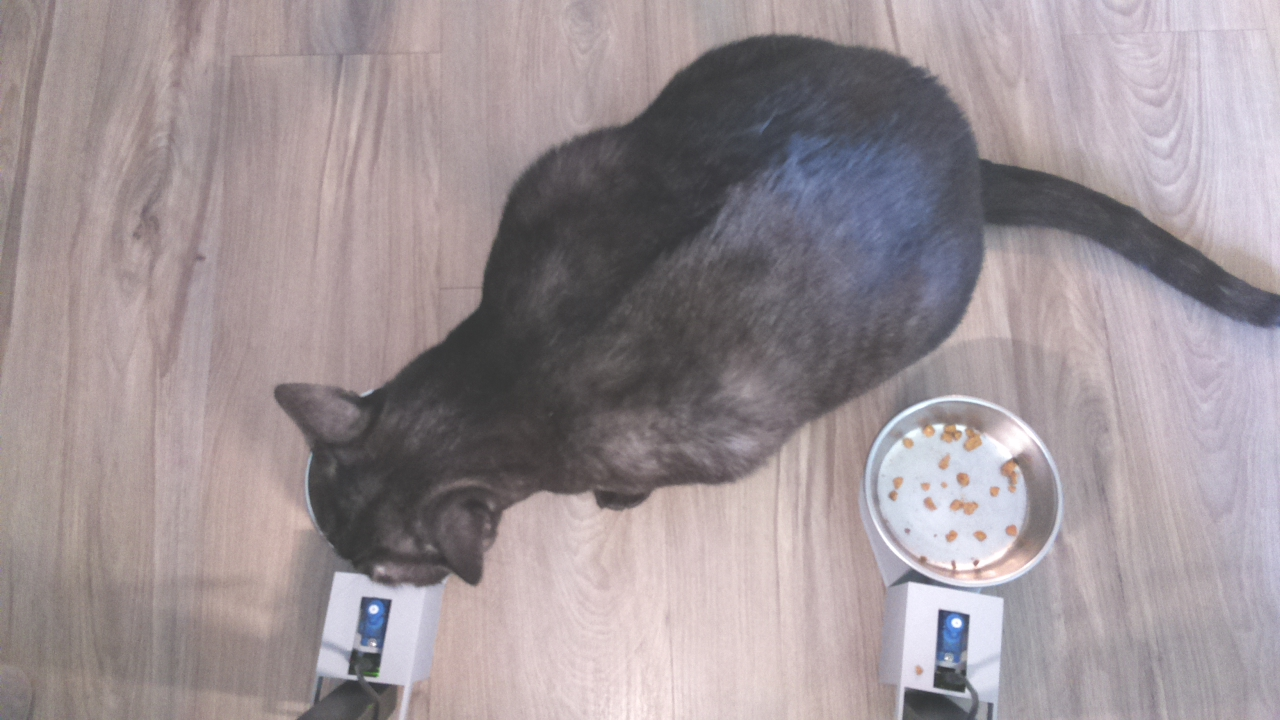open_bowl: (856, 390, 1070, 590)
saki_eating: (263, 344, 514, 611)
